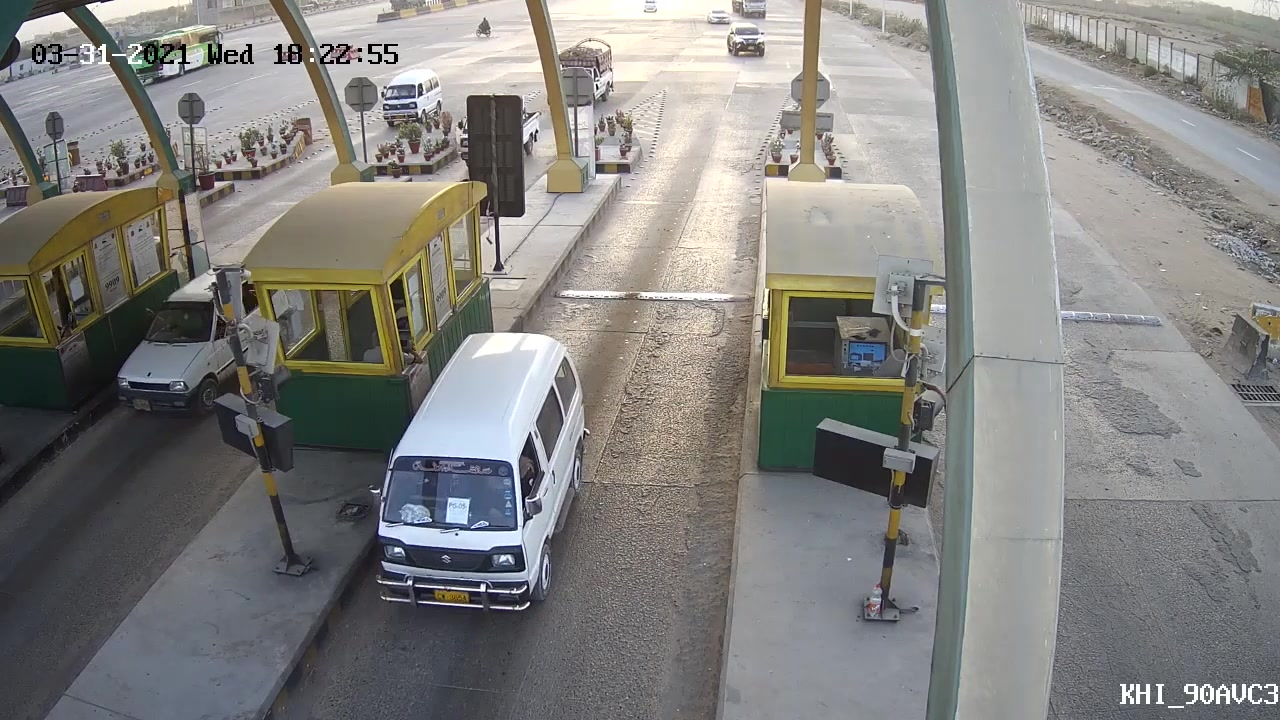F1: (358, 323, 598, 619)
